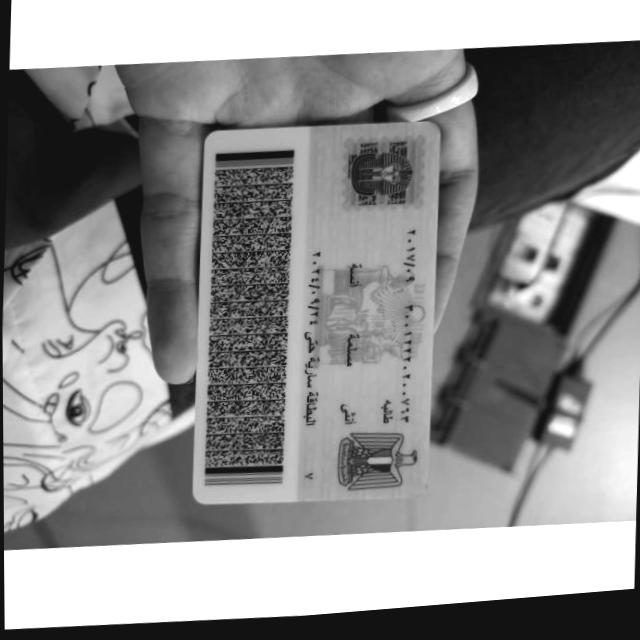id_card: (194, 120, 439, 501)
